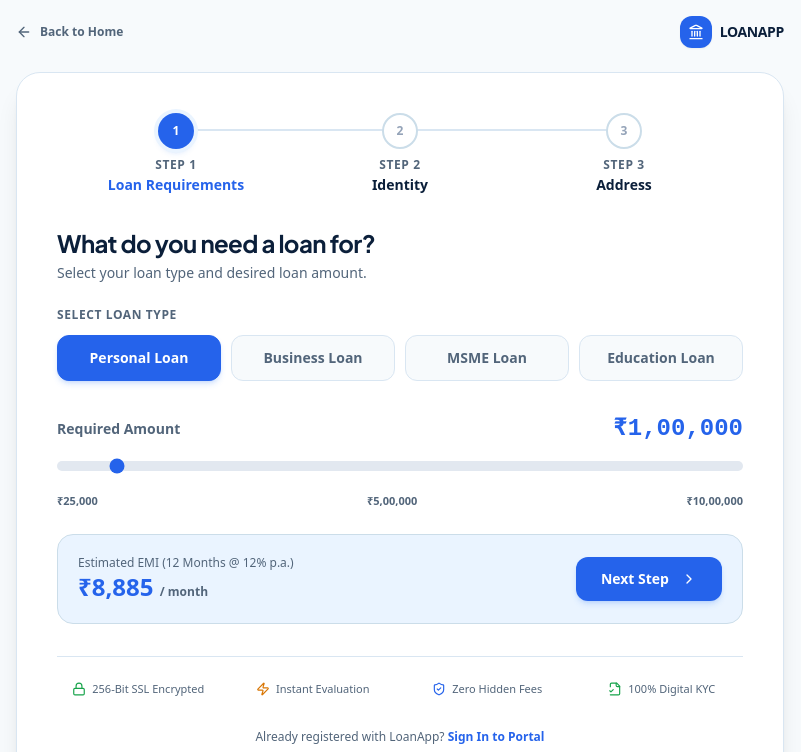
Test case: Frontend Authentication Flow › Customer Registration Screen › renders step 1 loan requirements and navigates to step 2 identity fields
Expected: the heading "What do you need a loan for?" is shown, [57,228,375,258]
Expected: the text "Select Loan Type" is shown, [57,306,177,323]
Click the button "Next Step". click: [649, 578]
box: [576,556,722,600]
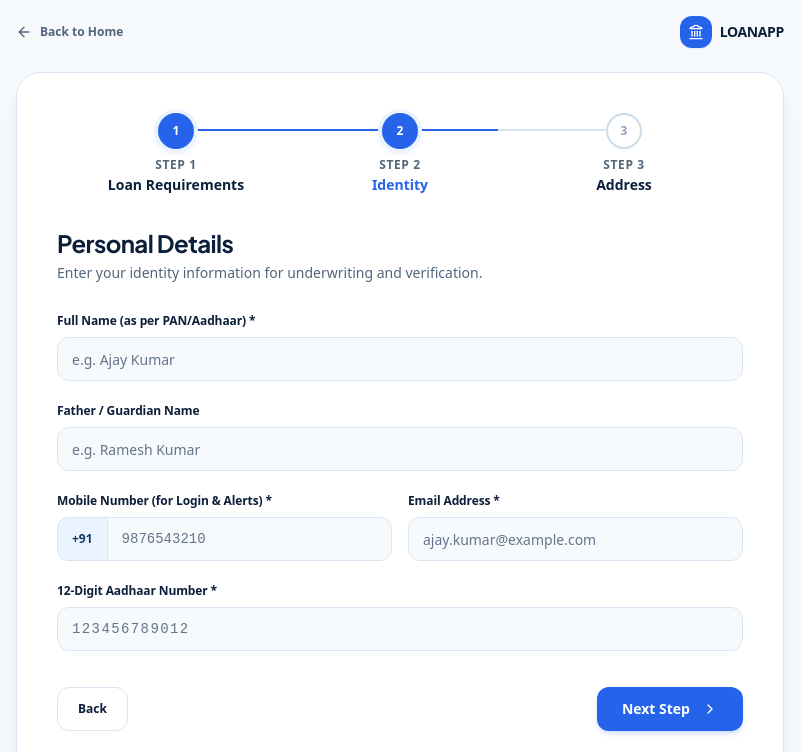
Expected: the heading "Personal Details" is shown, [57,228,233,258]
Expected: the field labelled "Full Name (as per PAN/Aadhaar) *" is shown, [57,337,743,381]
Expected: the field labelled "Mobile Number (for Login & Alerts) *" is shown, [107,517,392,561]
